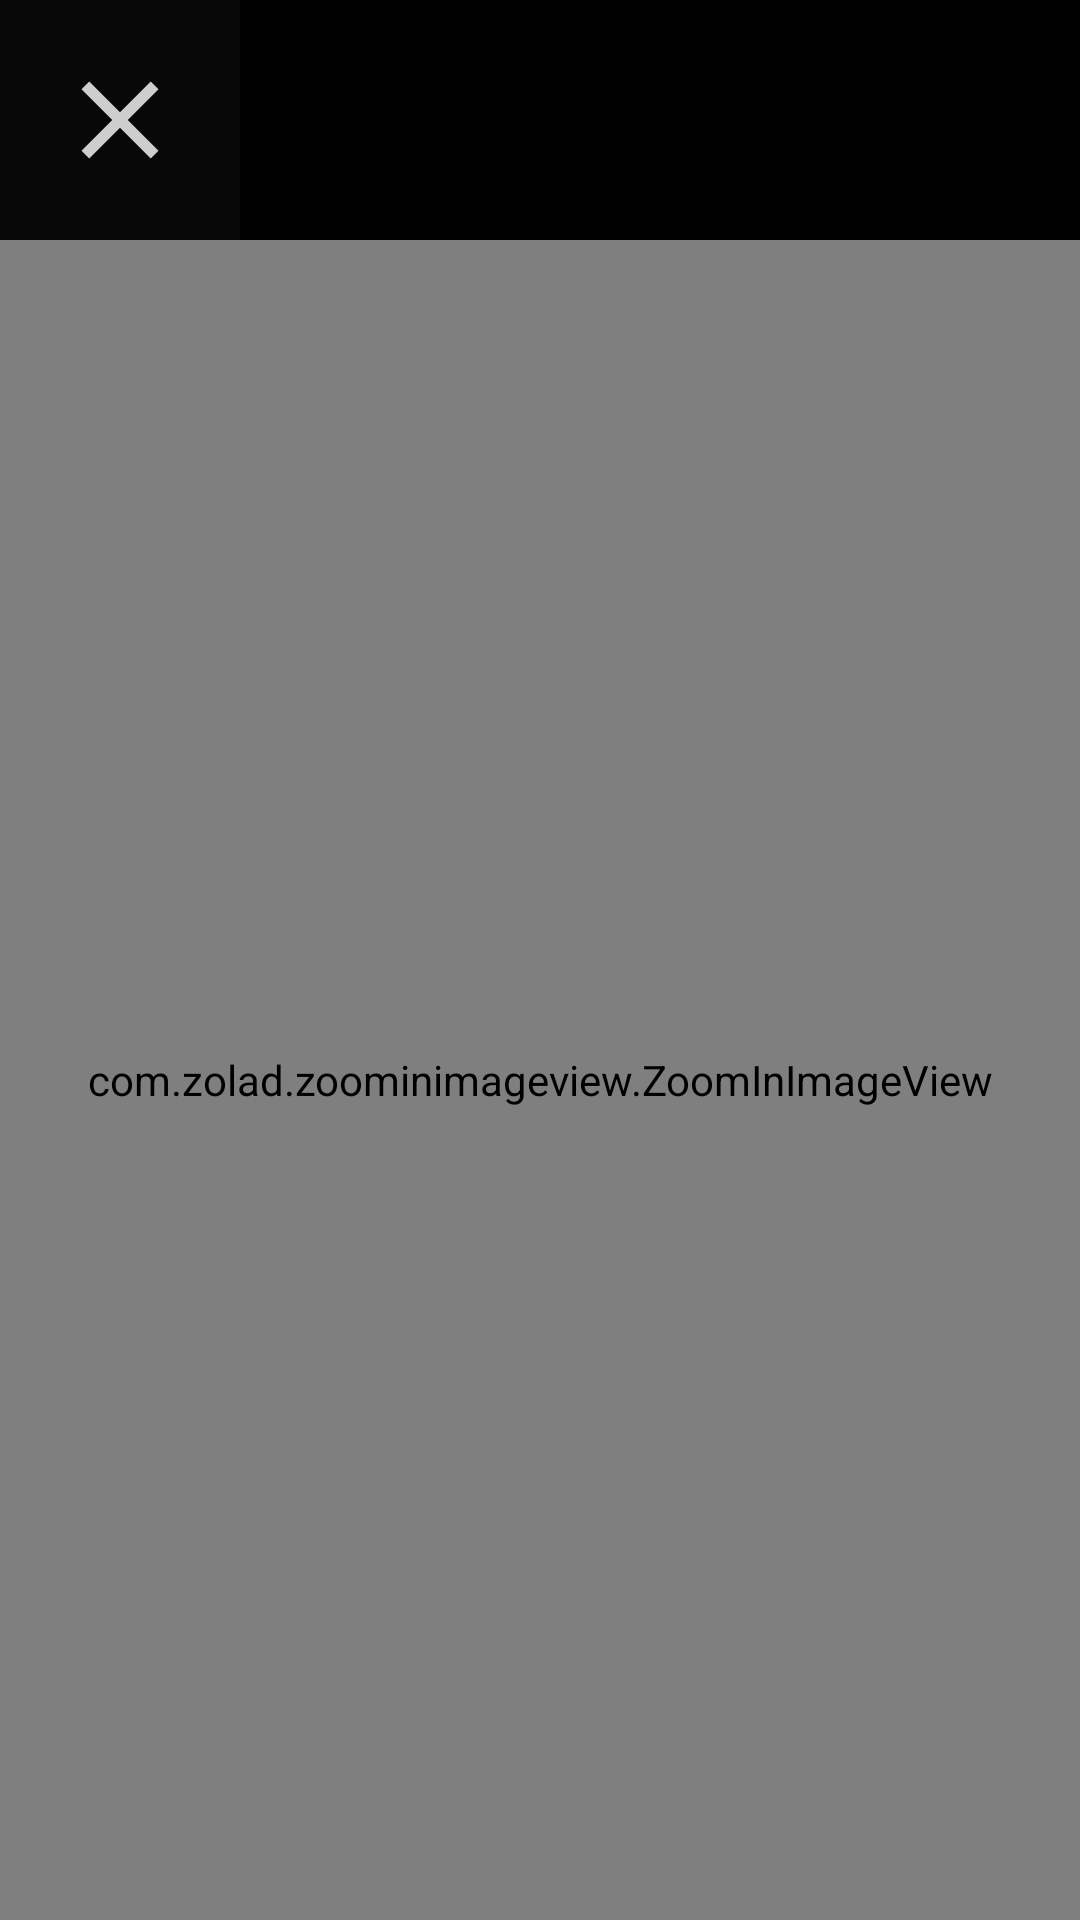

Icon bounding boxes for this 1080x1920 phone screenshot, format bbox=(x1, y1, x2, y2):
close: bbox=(81, 81, 159, 159)
